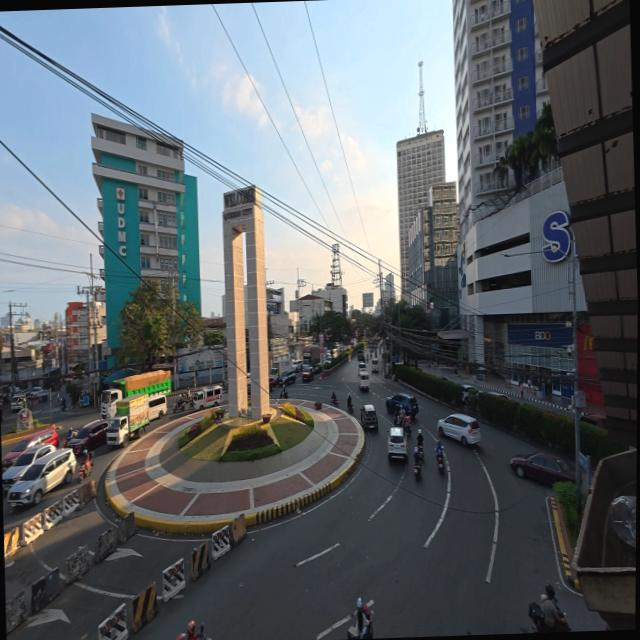car: (2, 444, 56, 491), (2, 430, 59, 472), (511, 453, 575, 484), (438, 414, 481, 446), (69, 420, 107, 455), (386, 394, 418, 417), (388, 427, 408, 461), (361, 405, 378, 430), (580, 414, 606, 428), (279, 369, 296, 386), (462, 384, 478, 402), (487, 391, 510, 400), (302, 366, 313, 381), (268, 375, 277, 390), (30, 387, 42, 397), (313, 362, 321, 373), (358, 361, 366, 371), (358, 351, 364, 362), (324, 359, 331, 368)
motorcycle: (529, 602, 568, 632), (78, 451, 93, 483), (366, 607, 373, 638), (173, 396, 185, 413), (62, 431, 74, 448), (196, 624, 209, 639), (403, 416, 412, 436), (437, 451, 445, 473), (199, 624, 210, 639), (414, 464, 422, 480), (280, 388, 288, 399), (419, 444, 424, 461), (221, 381, 228, 393), (330, 397, 338, 407), (347, 403, 354, 414), (61, 398, 66, 411), (189, 399, 194, 410)
trucks: (101, 371, 171, 418), (107, 394, 149, 446), (269, 359, 292, 379), (303, 345, 320, 365)
vans: (8, 448, 75, 506), (192, 384, 222, 410), (149, 394, 167, 420), (11, 395, 26, 411), (359, 370, 369, 391), (292, 359, 303, 372), (372, 359, 378, 373)
